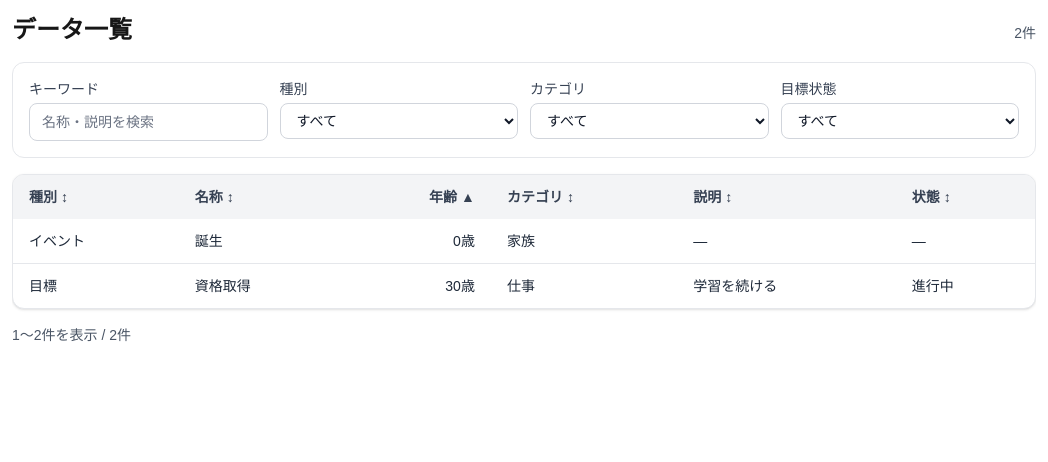
Test case: LifeEventTable › 種別・カテゴリ・目標状態の条件を組み合わせて絞り込む
The width and height of the screenshot is (1048, 462).
Select "目標" in the dropdown labelled "種別". click: [399, 121]
box: 280,103 -> 518,139
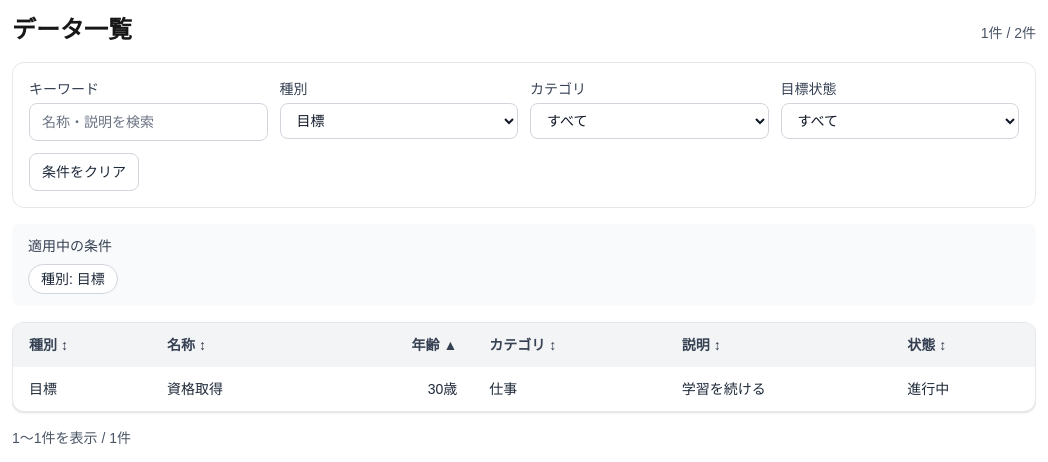
Select "仕事" in the dropdown labelled "カテゴリ". click: [649, 121]
box: 530,103 -> 768,139
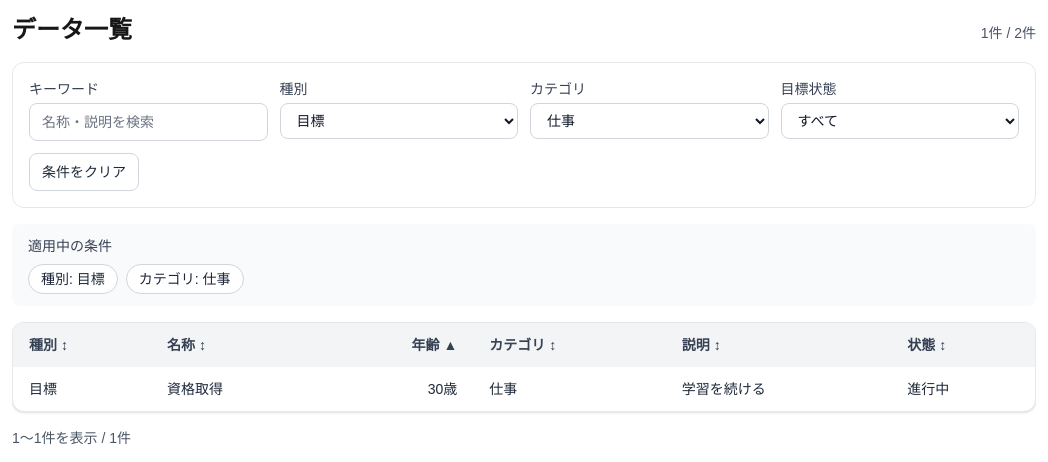
Select "進行中" in the dropdown labelled "目標状態". click: [900, 121]
box: 780,103 -> 1019,139
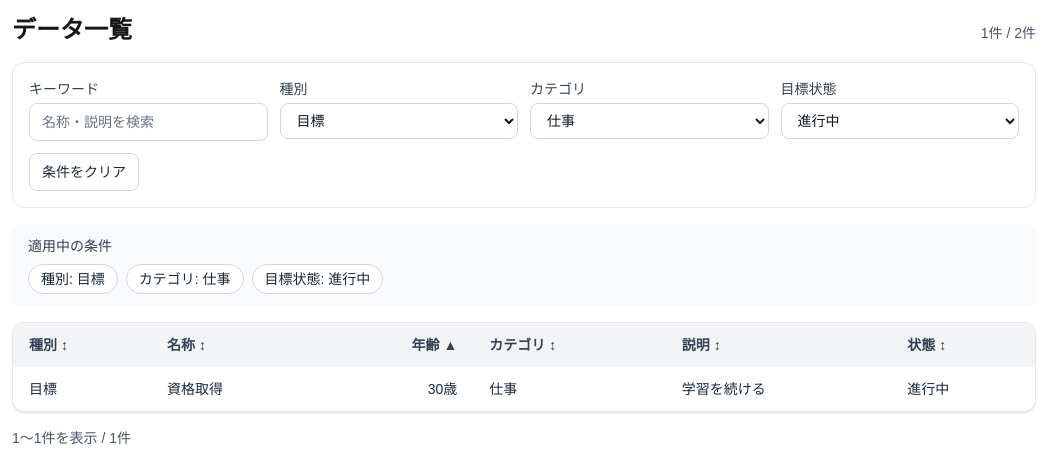
expect the text "資格取得" is shown: met, box 151,367 -> 322,411
expect the text "1件 / 2件" is shown: met, box 981,23 -> 1036,43
expect the list named "適用中の条件" reads "種別: 目標 カテゴリ: 仕事 目標状態: 進行中": met, box 28,264 -> 383,294
Select "達成" in the dropdown labelled "目標状態". click: [900, 121]
box: 780,103 -> 1019,139
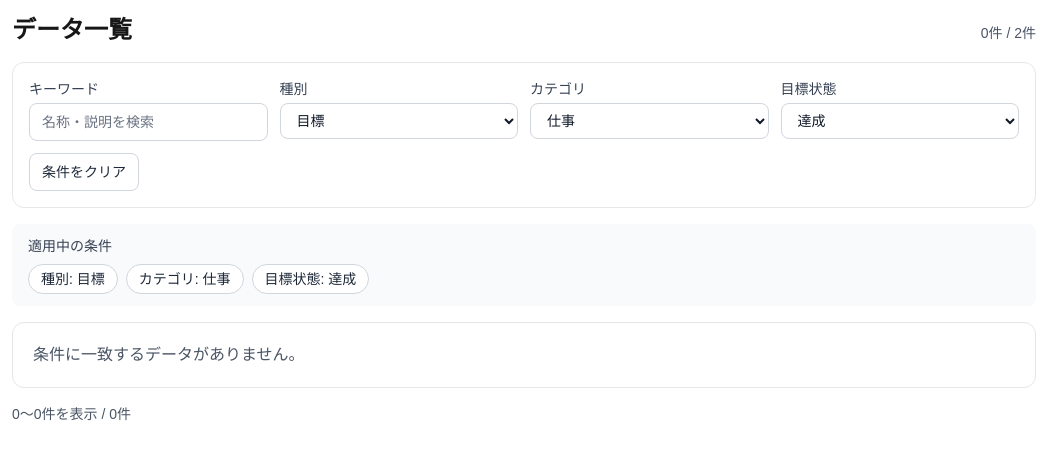
expect the list named "適用中の条件" is shown: met, box 28,264 -> 369,294
expect the text "条件に一致するデータがありません。" is shown: met, box 12,322 -> 1036,388
expect the text "0〜0件を表示 / 0件" is shown: met, box 12,404 -> 131,424
Click the button "条件をクリア". click: [84, 172]
box: 29,153 -> 139,191
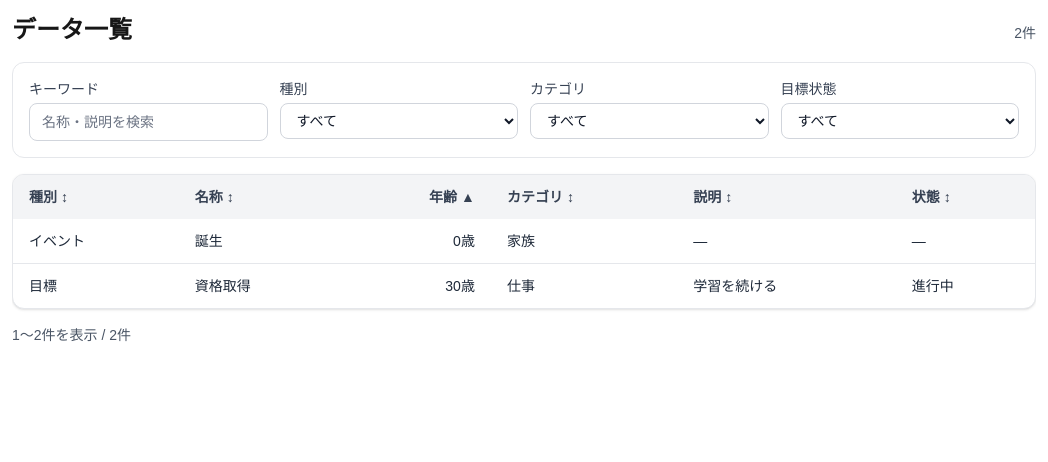
expect the text "適用中の条件" is gone: met
